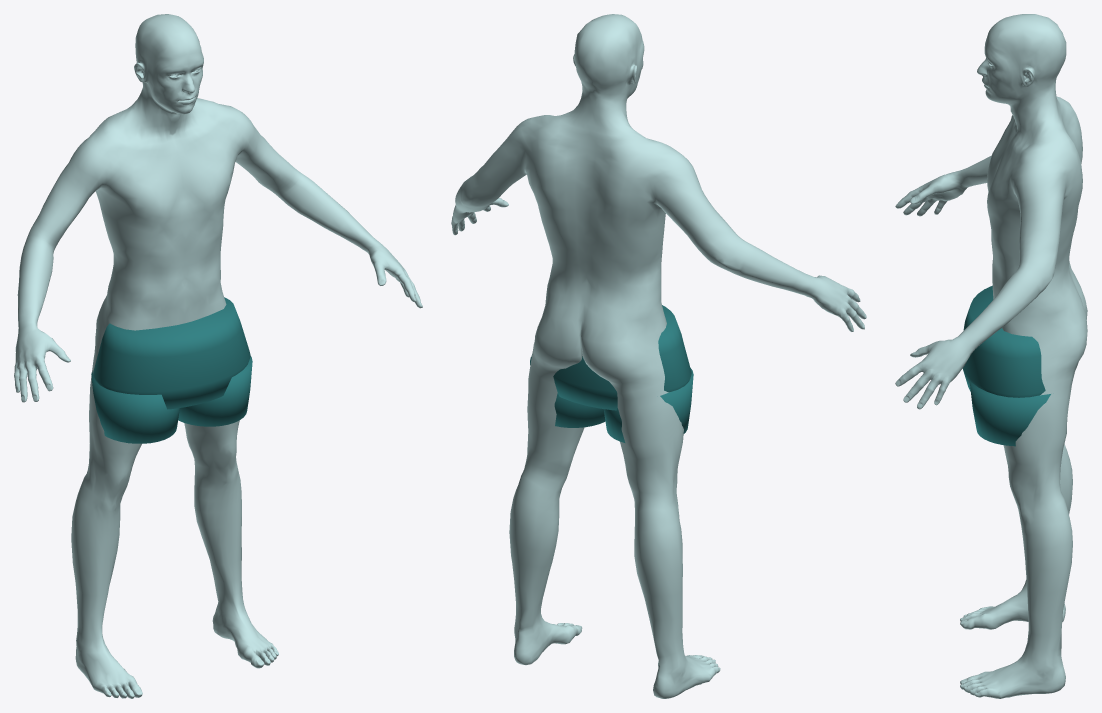
The model's file is body-atlas-3d-v1.glb.
The picture shows the model from 3 angles, left to right: view 1: azimuth 30°, elevation 25°; view 2: azimuth 150°, elevation 25°; view 3: azimuth 270°, elevation 25°; orthographic projection.
Visible parts, largest first — view 1: NeutralClinicalHuman, ClinicalModestyShorts; view 2: NeutralClinicalHuman, ClinicalModestyShorts; view 3: NeutralClinicalHuman, ClinicalModestyShorts.
Part boxes in pixels (box(x1,y1,x2,y2)): NeutralClinicalHuman: box(14, 14, 422, 698); ClinicalModestyShorts: box(91, 297, 252, 443); NeutralClinicalHuman: box(451, 14, 866, 698); ClinicalModestyShorts: box(530, 305, 693, 442); NeutralClinicalHuman: box(895, 14, 1087, 698); ClinicalModestyShorts: box(962, 285, 1050, 446).
Size of the model in its own units: 1.17 by 1.8 by 0.4892.
